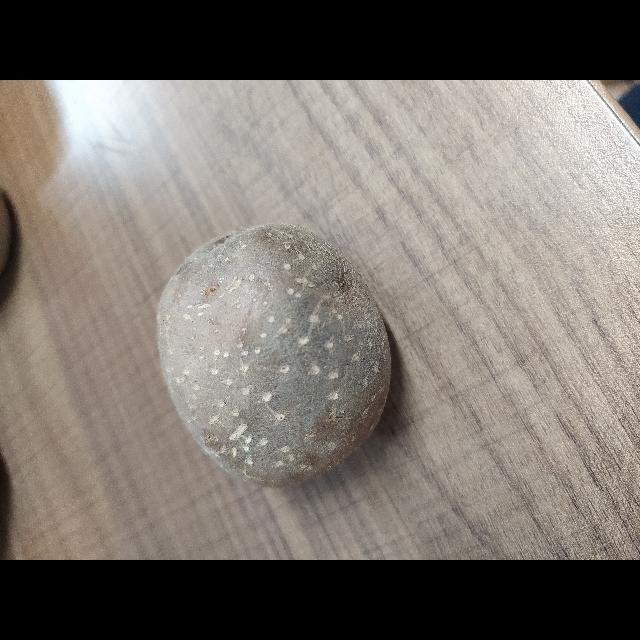Damaged potato: (68, 231, 352, 479)
